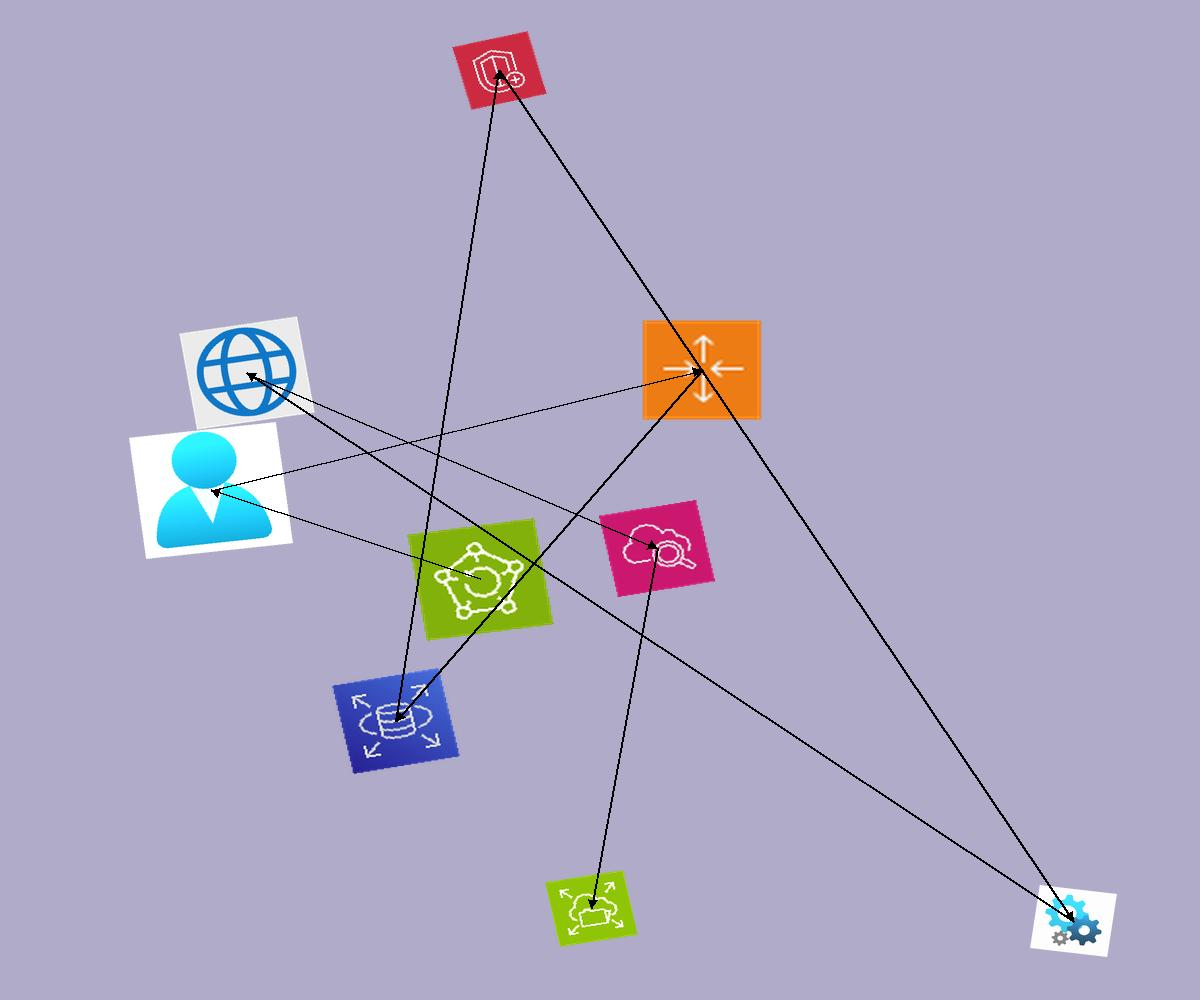AWS-Backup: (407, 518, 554, 641)
AWS-CloudWatch: (599, 500, 715, 597)
AWS-EFS: (545, 870, 638, 947)
AWS-RDS: (331, 667, 461, 775)
AWS-Scaling-group: (640, 318, 764, 422)
AWS-Shield: (452, 31, 547, 110)
Azure_api: (1030, 885, 1117, 957)
Azure_http: (179, 316, 315, 430)
Azure_users: (129, 422, 293, 559)
